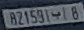1: (24, 11, 30, 25)
2: (16, 11, 24, 25)
5: (30, 10, 38, 24)
8: (71, 6, 79, 20), (9, 12, 17, 25)
9: (37, 9, 45, 24)
b: (50, 11, 62, 20)
